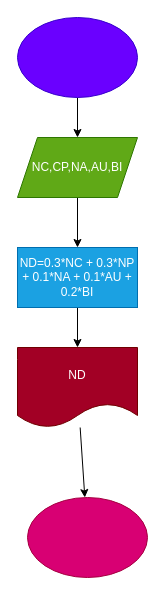
Some shapes in this 165 by 595 pixel diagram are drawn without their labels. Here are the shapes that lost their labels. From the top down, the centre of each, then its label:
At point 77,57: "INICIO".
At point 87,537: "FIN".
